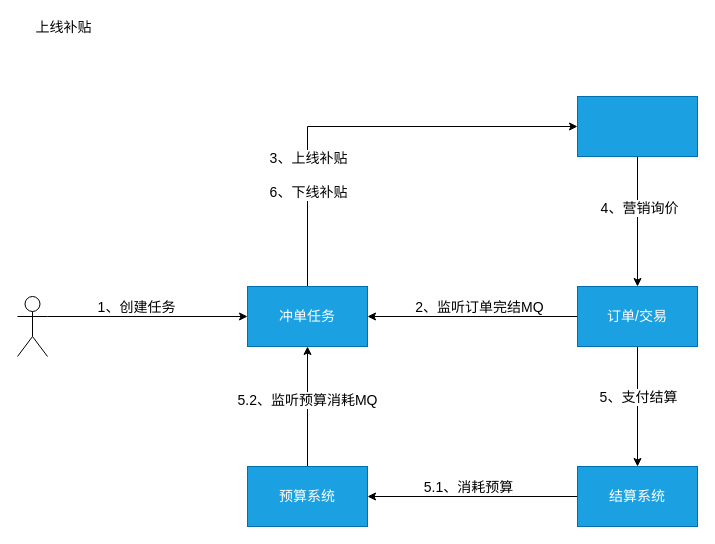
Some shapes in this 715 by 544 pixel diagram are drawn without their labels. The shapes that lost their labels are listed below. From the top down, each one's box as (x1, y1, x2, y2) in pixels, then its label:
(576, 96, 698, 156): 营销系统
(16, 296, 48, 356): 运营
